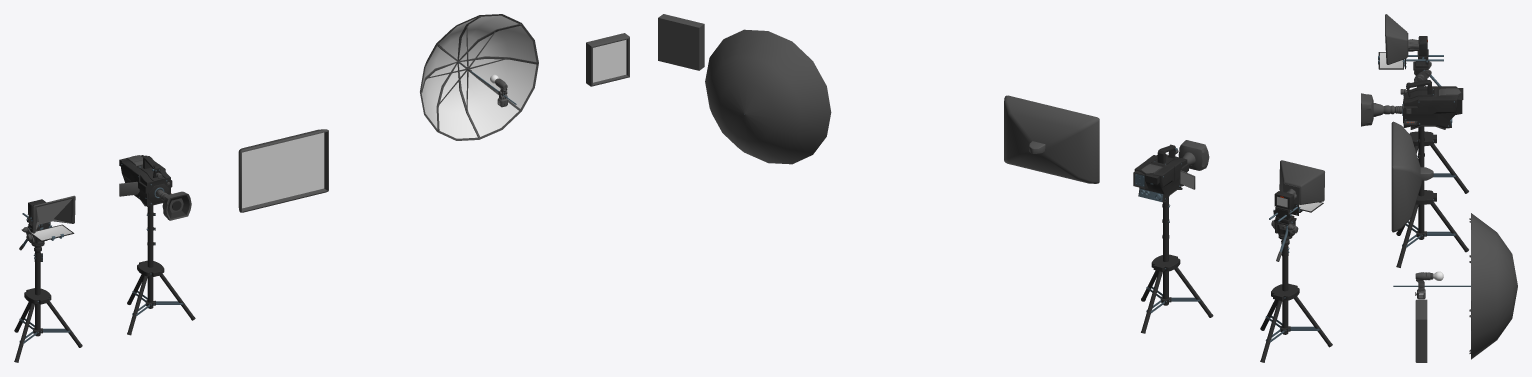
File: technics.fbx
3 views of the same model, side by side, from view 1: azimuth 30°, elevation 25°; view 2: azimuth 150°, elevation 25°; view 3: azimuth 270°, elevation 25° (orthographic). The views are drawn at different scales.
Visible parts, largest first — view 1: SM_spotlight_2, SM_spotlight_1, SM_Camera, SM_spotlight_3, SM_prompter, SM_Tripod_2, SM_Tripod_1; view 2: SM_spotlight_2, SM_spotlight_1, SM_Camera, SM_prompter, SM_spotlight_3, SM_Tripod_1, SM_Tripod_2; view 3: SM_spotlight_2, SM_Camera, SM_spotlight_1, SM_prompter, SM_Tripod_2, SM_spotlight_3, SM_Tripod_1.
Boxes of the visible parts, x1=… form: SM_spotlight_2: x1=420, y1=14, x2=538, y2=140; SM_spotlight_1: x1=238, y1=129, x2=328, y2=212; SM_Camera: x1=119, y1=155, x2=191, y2=220; SM_spotlight_3: x1=586, y1=33, x2=629, y2=86; SM_prompter: x1=19, y1=195, x2=75, y2=250; SM_Tripod_2: x1=127, y1=205, x2=195, y2=335; SM_Tripod_1: x1=14, y1=236, x2=82, y2=362; SM_spotlight_2: x1=705, y1=29, x2=831, y2=164; SM_spotlight_1: x1=1004, y1=95, x2=1099, y2=183; SM_Camera: x1=1133, y1=140, x2=1209, y2=202; SM_prompter: x1=1269, y1=160, x2=1324, y2=261; SM_spotlight_3: x1=658, y1=14, x2=704, y2=70; SM_Tripod_1: x1=1260, y1=223, x2=1332, y2=362; SM_Tripod_2: x1=1141, y1=197, x2=1213, y2=333; SM_spotlight_2: x1=1393, y1=213, x2=1517, y2=359; SM_Camera: x1=1361, y1=80, x2=1463, y2=129; SM_spotlight_1: x1=1391, y1=121, x2=1433, y2=232; SM_prompter: x1=1378, y1=14, x2=1443, y2=86; SM_Tripod_2: x1=1396, y1=126, x2=1468, y2=267; SM_spotlight_3: x1=1415, y1=299, x2=1427, y2=362; SM_Tripod_1: x1=1409, y1=85, x2=1468, y2=193.
Size of the model in its own units: 729 by 226 by 150.
